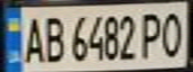2: (118, 10, 139, 61)
4: (84, 11, 106, 62)
6: (66, 12, 90, 62)
8: (103, 11, 124, 61)
A: (18, 11, 48, 64)
B: (39, 11, 69, 63)
O: (157, 8, 187, 59)
P: (139, 9, 166, 60)
